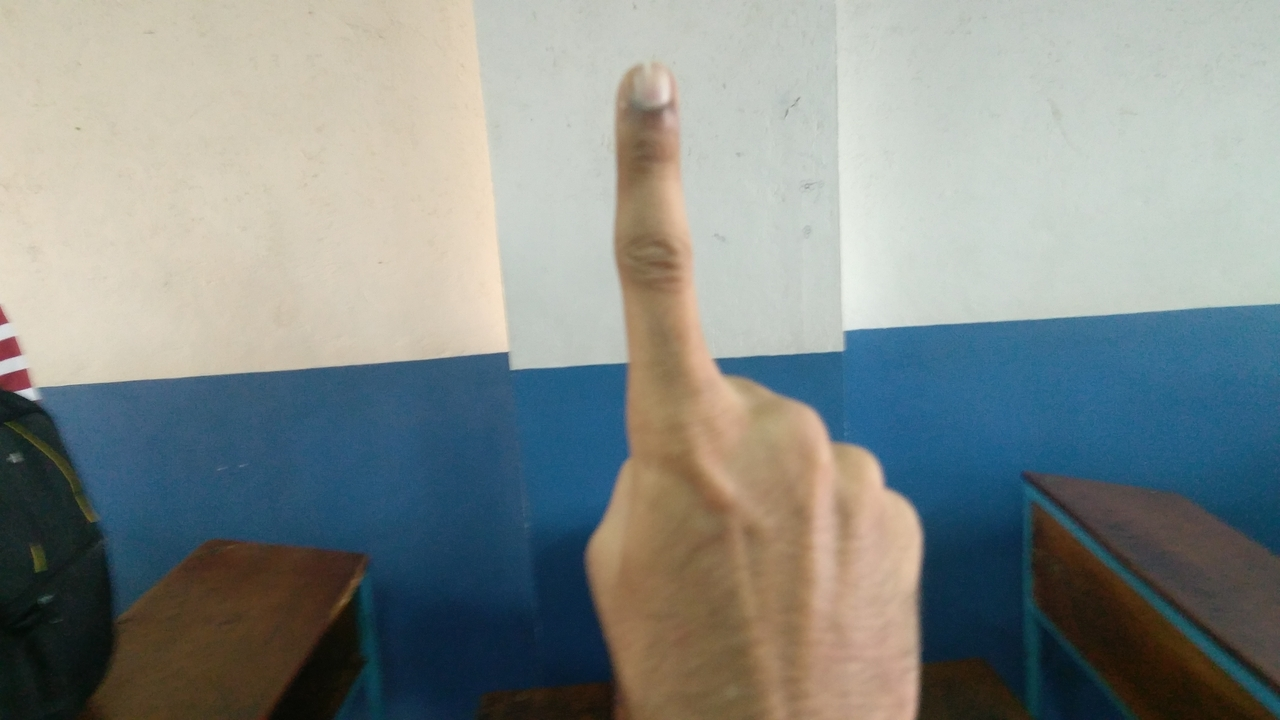fingertip: (616, 60, 682, 124)
